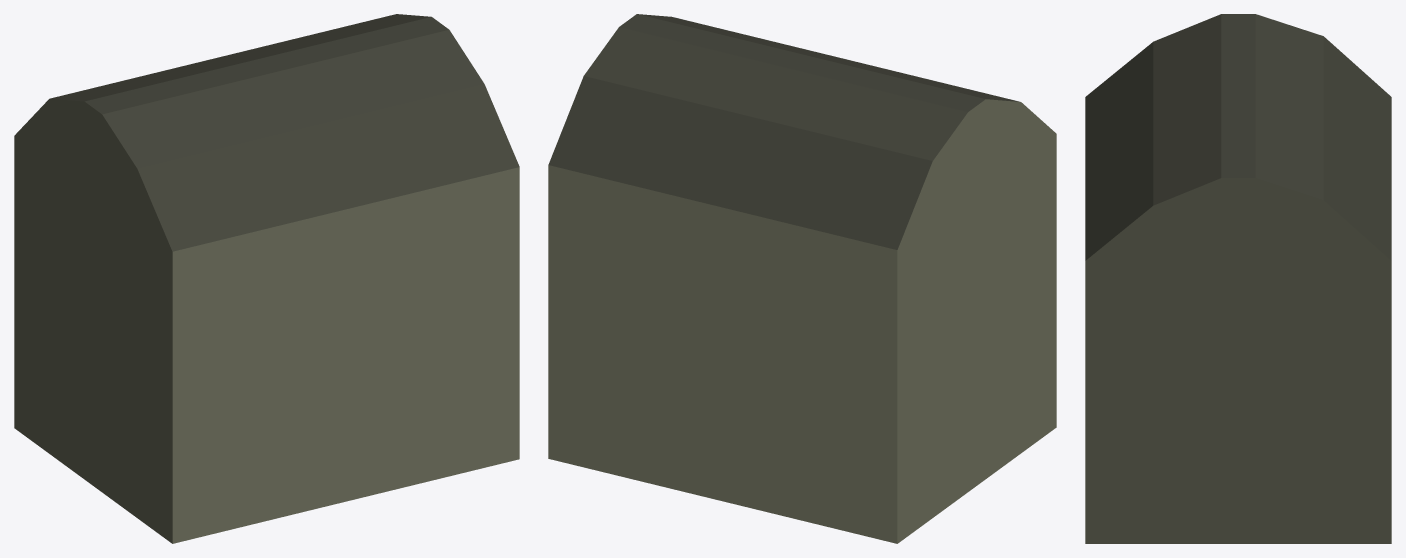
Rendered from Building_01_Wall.fbx.
3 views of the same model, side by side, from view 1: azimuth 30°, elevation 25°; view 2: azimuth 150°, elevation 25°; view 3: azimuth 270°, elevation 25° (orthographic). The views are drawn at different scales.
Parts seen in each view (by area): view 1: Building_01_Wall; view 2: Building_01_Wall; view 3: Building_01_Wall.
Part boxes in pixels (box(x1,y1,x2,y2)): Building_01_Wall: box(14, 14, 519, 543); Building_01_Wall: box(548, 14, 1056, 543); Building_01_Wall: box(1085, 14, 1391, 543).
Size of the model in its own units: 110 by 114 by 86.47.
